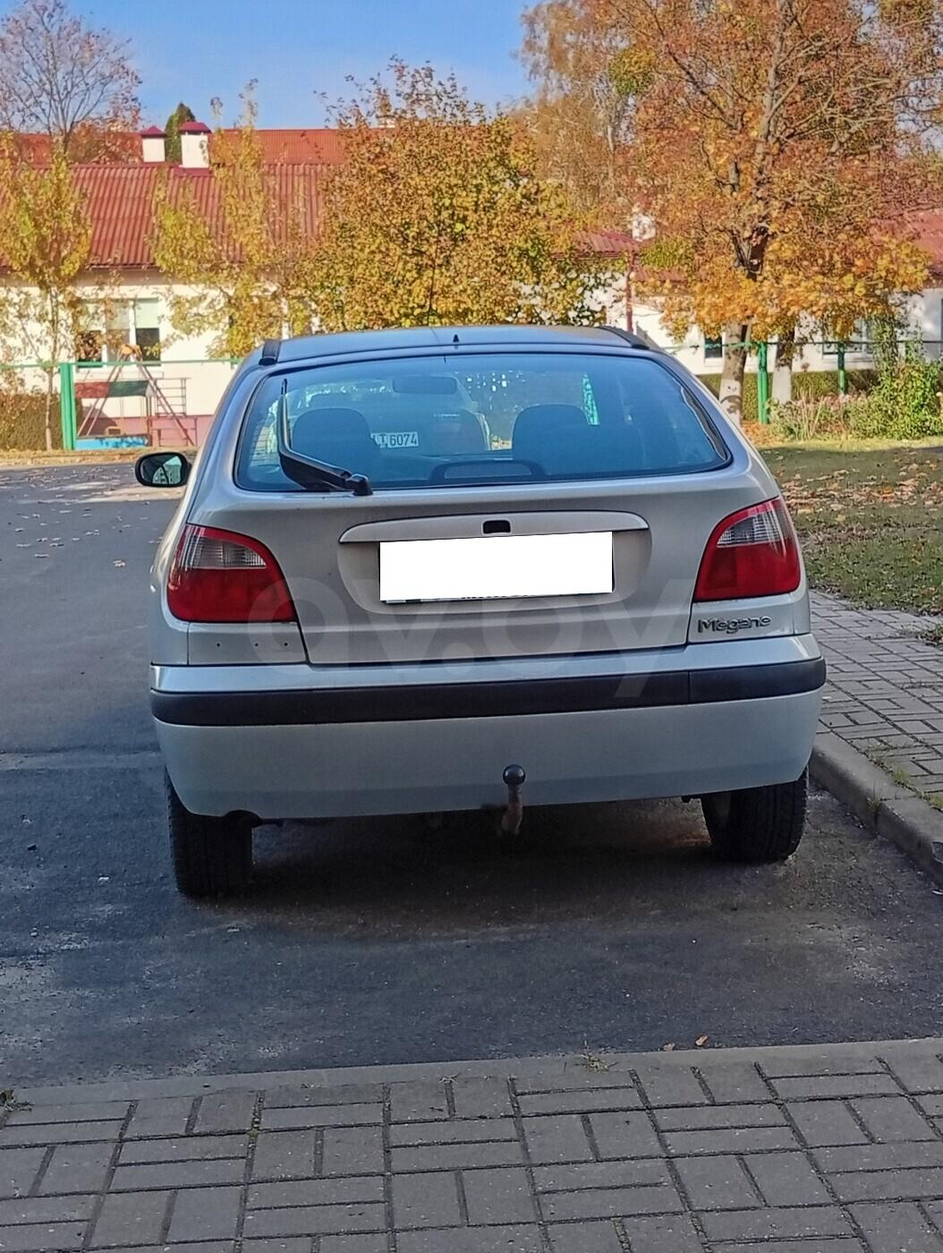Megane_1995-1999: (138, 333, 816, 908)
